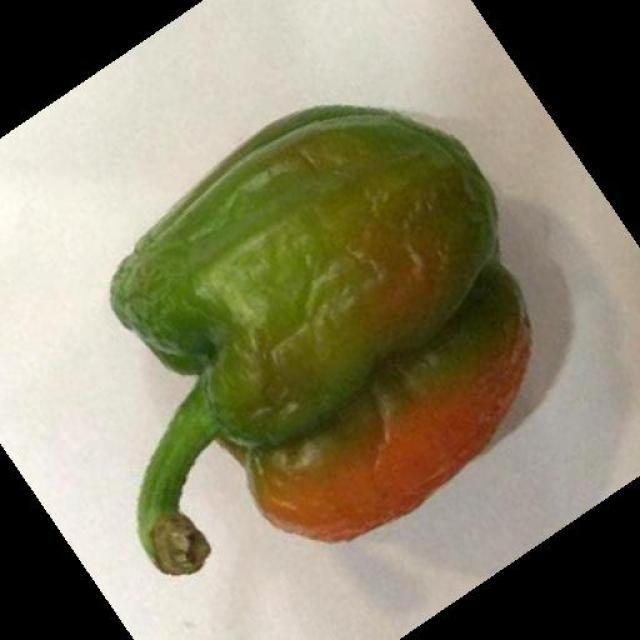Stale_Capsicum: (107, 115, 558, 538)
